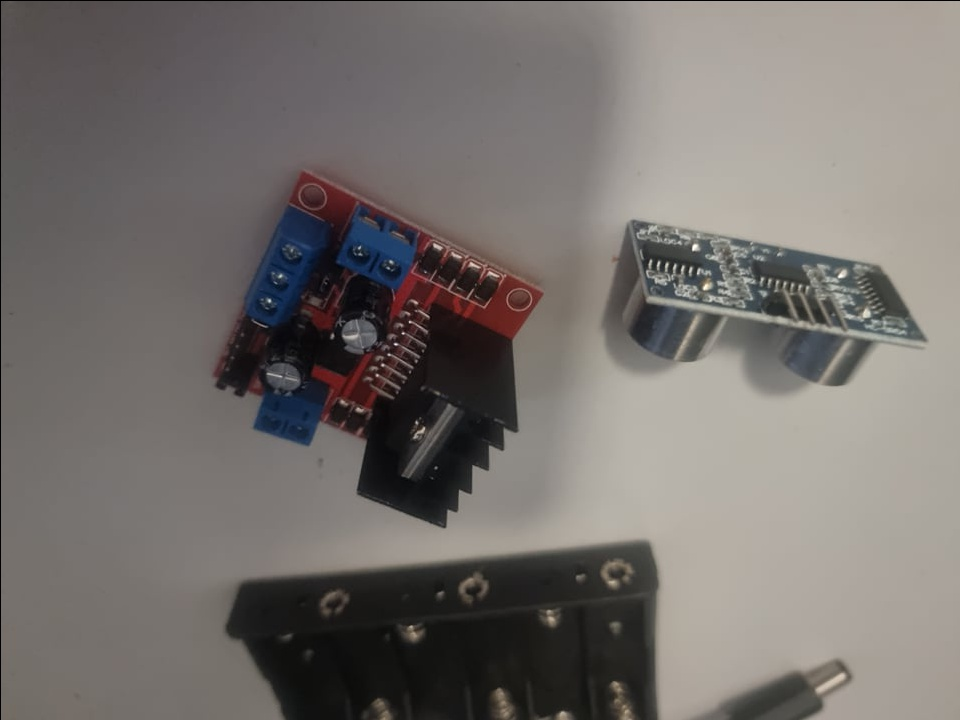BATTERY BOX: (226, 542, 665, 719)
MOTOR: (205, 166, 543, 528)
SENSOR: (619, 211, 928, 391)
